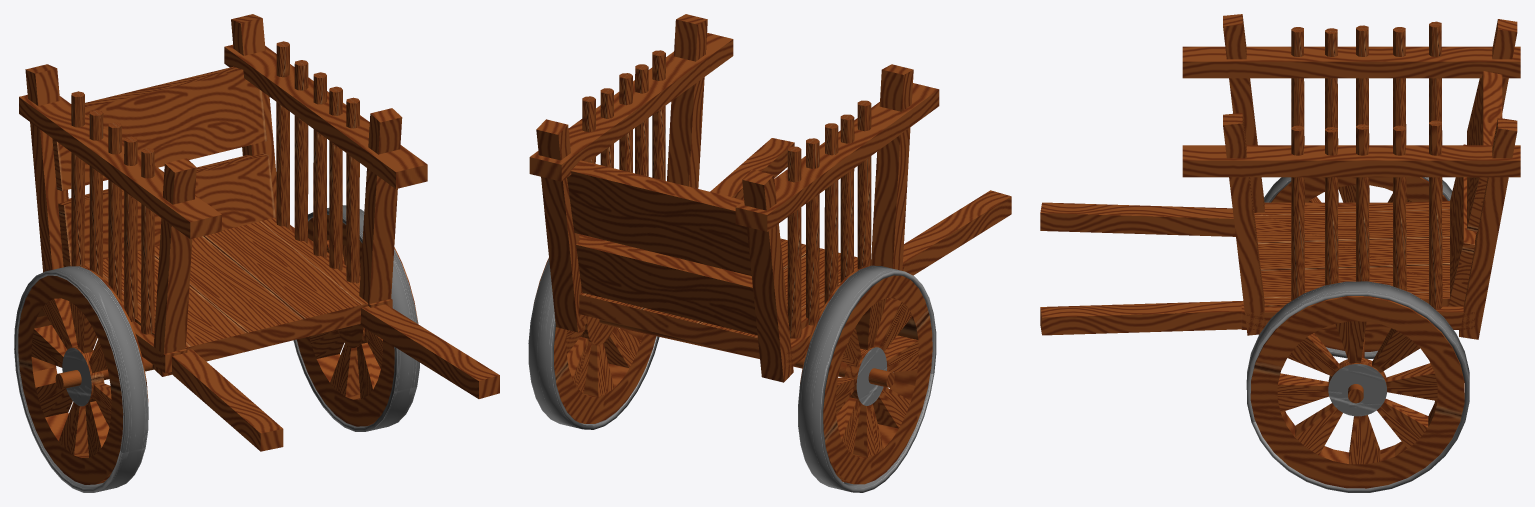
The model's file is Wagon Hand Cart.fbx.
3 views of the same model, side by side, from view 1: azimuth 30°, elevation 25°; view 2: azimuth 150°, elevation 25°; view 3: azimuth 270°, elevation 25° (orthographic).
Parts seen in each view (by area): view 1: Wheels Front, Cube.007, Cylinder.003, Wood Cover 1, Hand Cart, Cube.006, Wood Rod.001; view 2: Wheels Front, Cube.007, Wood Cover 1, Cylinder.003, Cube.006, Hand Cart, Wood Rod.001; view 3: Wheels Front, Cube.007, Cylinder.003, Cube.006, Hand Cart, Wood Cover 1.
Part boxes in pixels (x1,y1,x2,y2): Wheels Front: (14,205,419,492); Cube.007: (19,14,427,376); Cylinder.003: (71,41,359,334); Wood Cover 1: (52,66,275,267); Hand Cart: (84,217,368,361); Cube.006: (170,304,499,451); Wood Rod.001: (55,326,352,389); Wheels Front: (528,258,936,492); Cube.007: (529,14,939,382); Wood Cover 1: (567,160,757,335); Cylinder.003: (582,50,871,338); Cube.006: (710,138,1011,275); Hand Cart: (579,238,857,357); Wood Rod.001: (599,319,894,387); Wheels Front: (1246,177,1469,492); Cube.007: (1182,14,1520,339); Cylinder.003: (1291,21,1442,309); Cube.006: (1040,202,1243,335); Hand Cart: (1254,201,1449,306); Wood Cover 1: (1448,71,1502,306).
Bounding box in the file's own units: 6.44 × 7.13 × 8.73.
